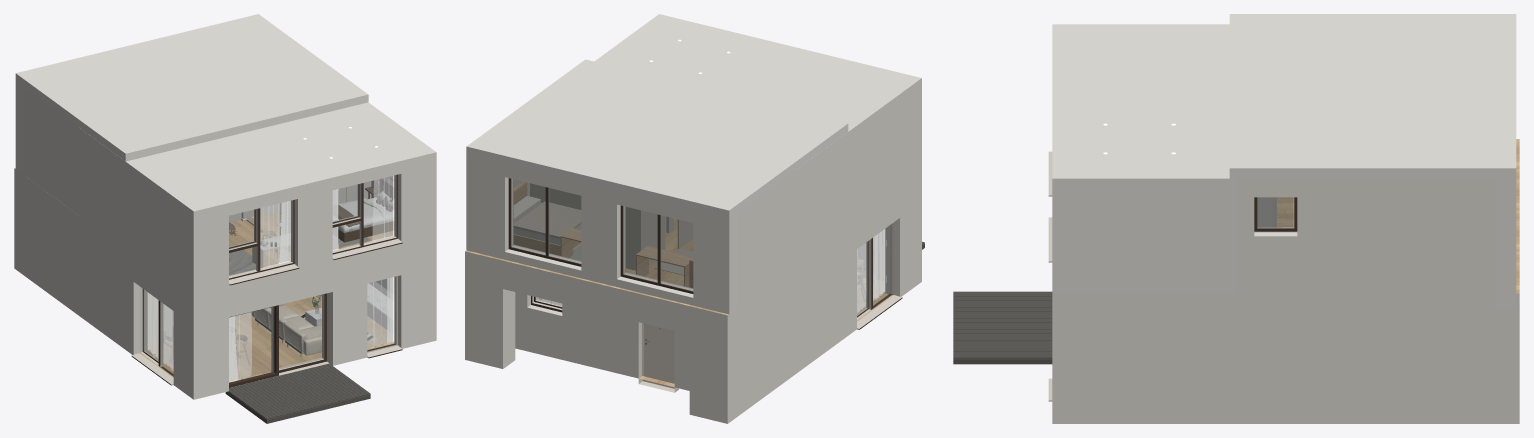
The model's file is bor2-wnetrze-dom1.glb.
The picture shows the model from 3 angles, left to right: view 1: azimuth 30°, elevation 25°; view 2: azimuth 150°, elevation 25°; view 3: azimuth 270°, elevation 25°; orthographic projection. The views are drawn at different scales.
Visible parts, largest first — view 1: KOND_1__SUFIT, KOND_0__WNETRZE, KOND_1__WNETRZE, KOND_0__TRANSPARENT, KOND_1__TRANSPARENT, KOND_0__PODLOGA, KOND_1__PODLOGA; view 2: KOND_1__SUFIT, KOND_0__WNETRZE, KOND_1__WNETRZE, KOND_1__TRANSPARENT, KOND_1__DETALE, KOND_0__TRANSPARENT, KOND_1__PODLOGA, KOND_0__PODLOGA; view 3: KOND_1__SUFIT, KOND_0__WNETRZE, KOND_1__WNETRZE, KOND_1__PODLOGA, KOND_1__TRANSPARENT.
Part boxes in pixels (left/top/right/bottom): KOND_1__SUFIT: left=15, top=14, right=435, bottom=211; KOND_0__WNETRZE: left=14, top=168, right=436, bottom=423; KOND_1__WNETRZE: left=15, top=81, right=436, bottom=299; KOND_0__TRANSPARENT: left=142, top=277, right=394, bottom=382; KOND_1__TRANSPARENT: left=229, top=175, right=394, bottom=275; KOND_0__PODLOGA: left=141, top=296, right=394, bottom=382; KOND_1__PODLOGA: left=14, top=168, right=394, bottom=266; KOND_1__SUFIT: left=466, top=14, right=921, bottom=218; KOND_0__WNETRZE: left=465, top=173, right=924, bottom=423; KOND_1__WNETRZE: left=466, top=78, right=921, bottom=314; KOND_1__TRANSPARENT: left=511, top=179, right=693, bottom=290; KOND_1__DETALE: left=513, top=39, right=730, bottom=287; KOND_0__TRANSPARENT: left=857, top=224, right=891, bottom=317; KOND_1__PODLOGA: left=465, top=218, right=791, bottom=315; KOND_0__PODLOGA: left=639, top=280, right=892, bottom=387; KOND_1__SUFIT: left=1052, top=14, right=1516, bottom=178; KOND_0__WNETRZE: left=953, top=291, right=1519, bottom=423; KOND_1__WNETRZE: left=1048, top=151, right=1516, bottom=308; KOND_1__PODLOGA: left=1277, top=139, right=1519, bottom=293; KOND_1__TRANSPARENT: left=1257, top=197, right=1293, bottom=227.
Bounding box in the file's own units: 7.57 × 5.94 × 11.63.
23 materials, 11 textured.
